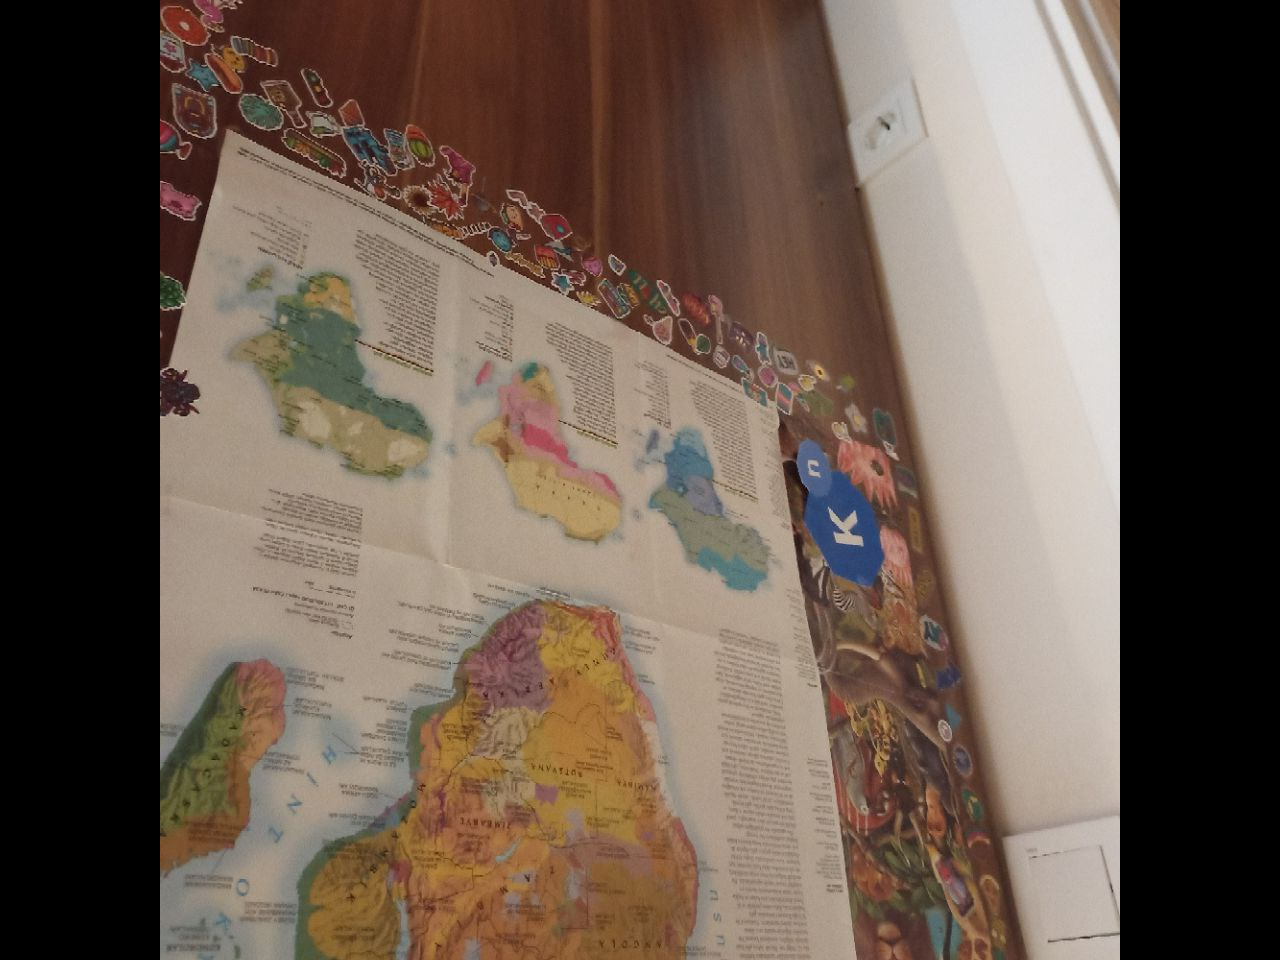knative: (794, 439, 881, 583)
